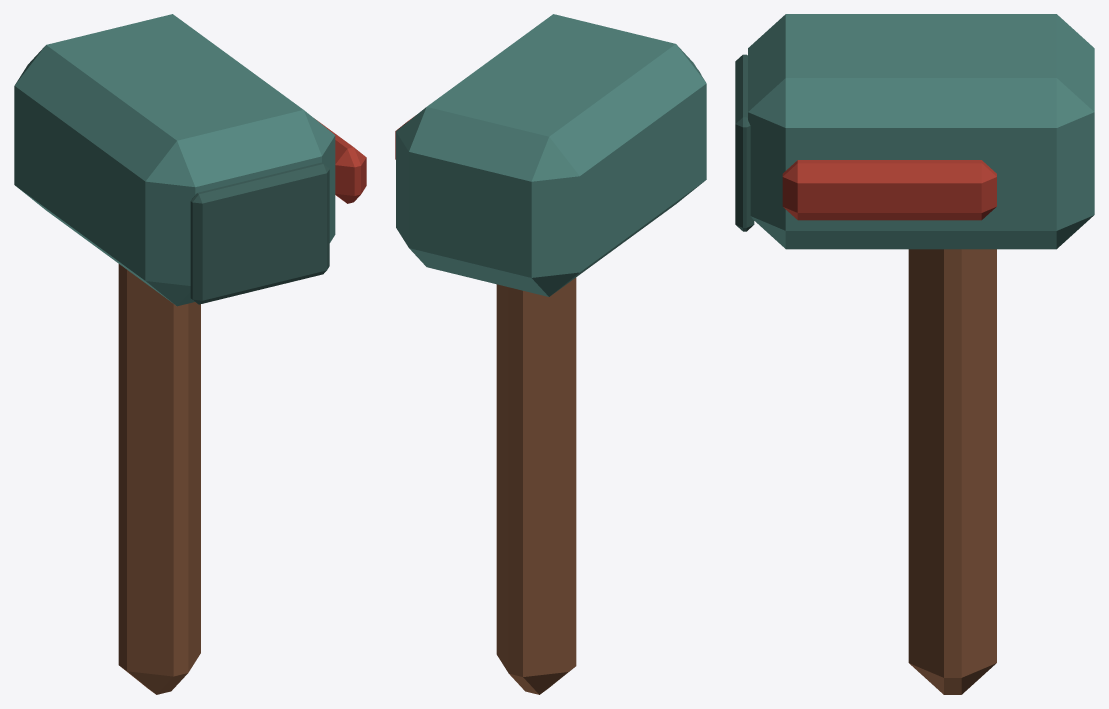
File: mailbox.glb
3 views of the same model, side by side, from view 1: azimuth 30°, elevation 25°; view 2: azimuth 150°, elevation 25°; view 3: azimuth 270°, elevation 25° (orthographic). The views are drawn at different scales.
Visible parts, largest first — view 1: body; view 2: body; view 3: body.
Part boxes in pixels (x1=…): body: x1=14, y1=14, x2=366, y2=694; body: x1=395, y1=14, x2=706, y2=694; body: x1=735, y1=14, x2=1094, y2=694.
Bounding box in the file's own units: 0.43 × 1.13 × 0.57.
